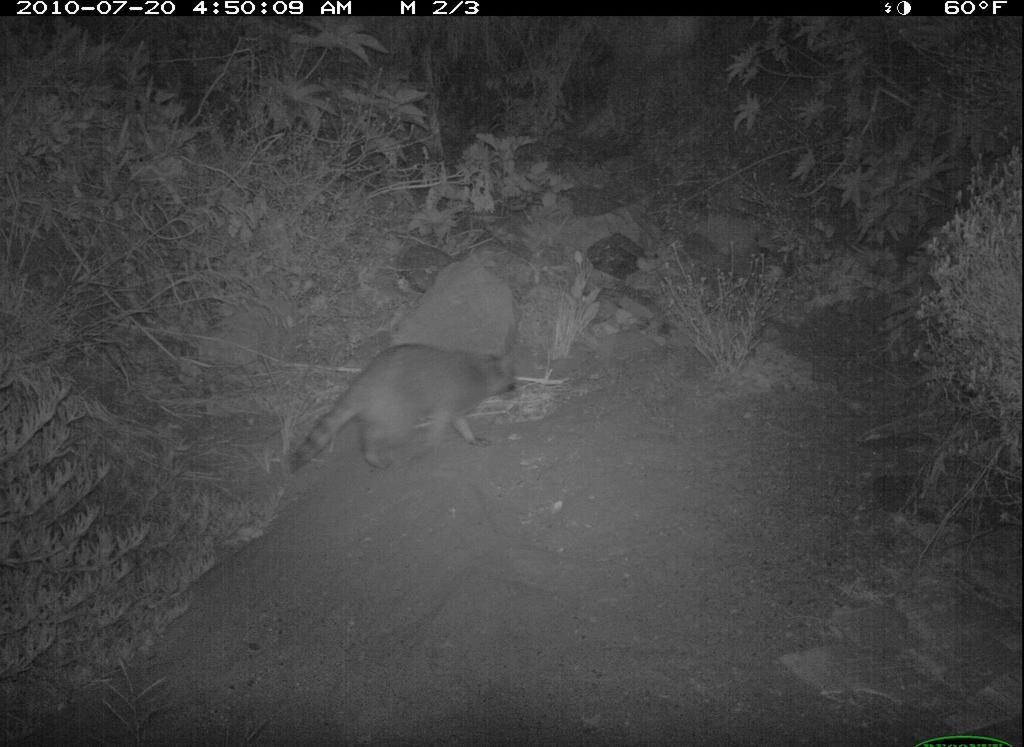raccoon: (280, 327, 527, 487)
